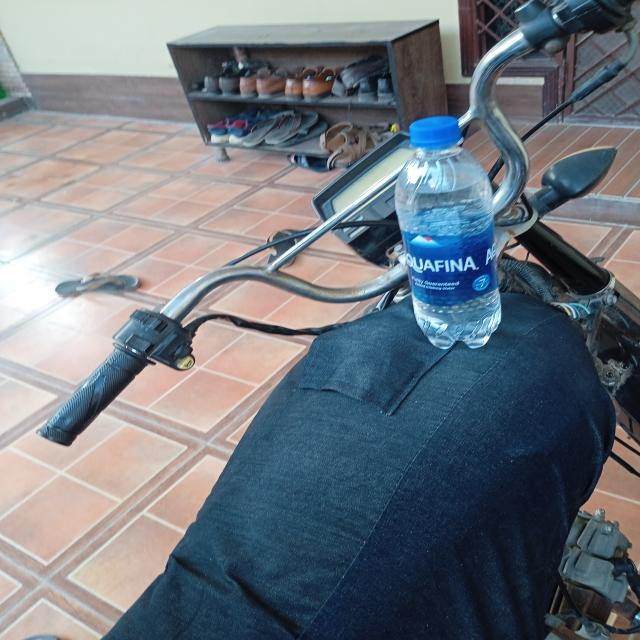Plastic: (383, 112, 512, 352)
